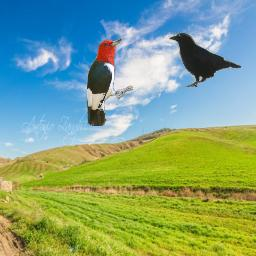Crow: (167, 31, 241, 87)
Woodpecker: (86, 38, 133, 126)
